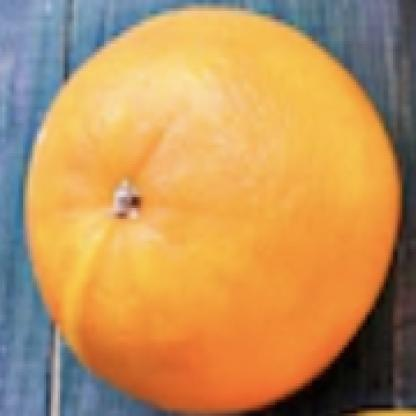fresh: (28, 10, 401, 416)
